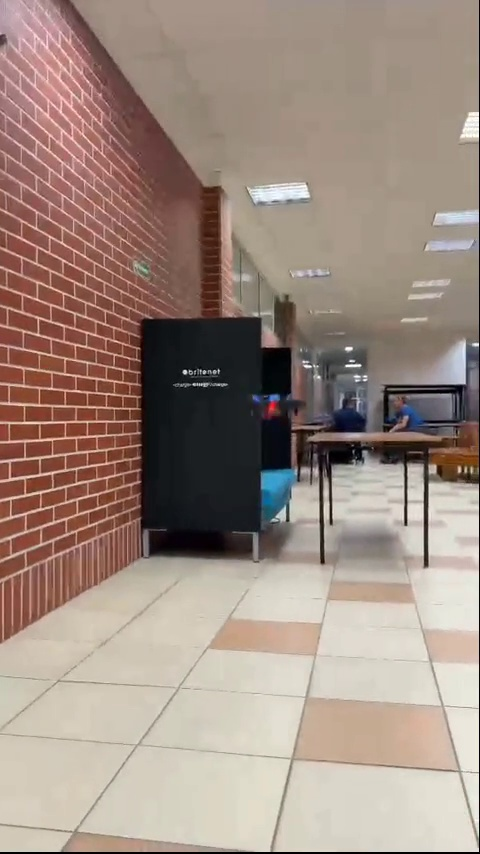drone: (247, 391, 295, 416)
no vest: (387, 384, 429, 436), (334, 393, 365, 429)
